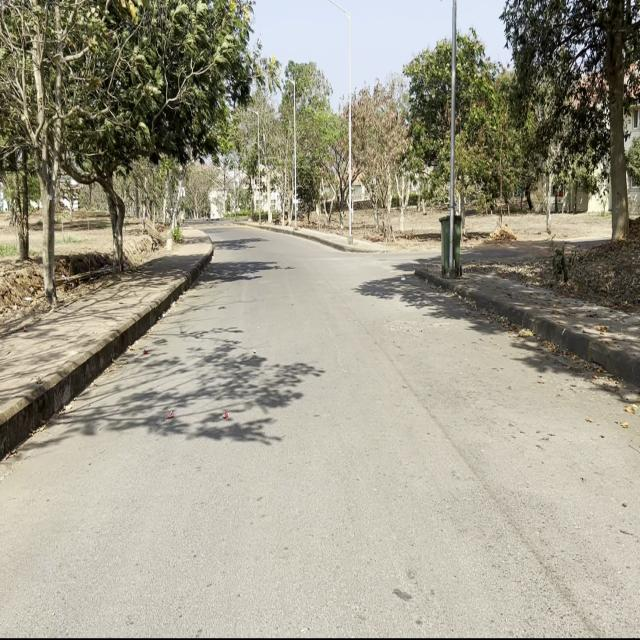Road: (2, 220, 638, 632)
